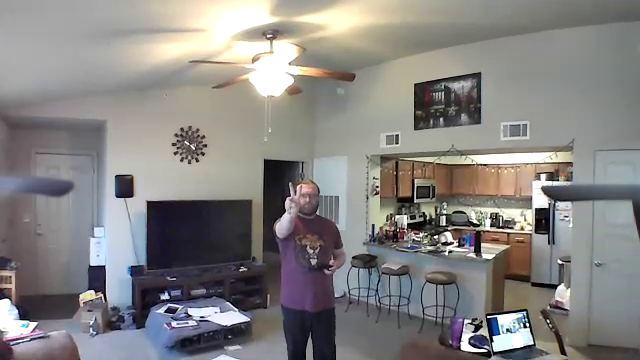peace: (280, 178, 305, 217)
